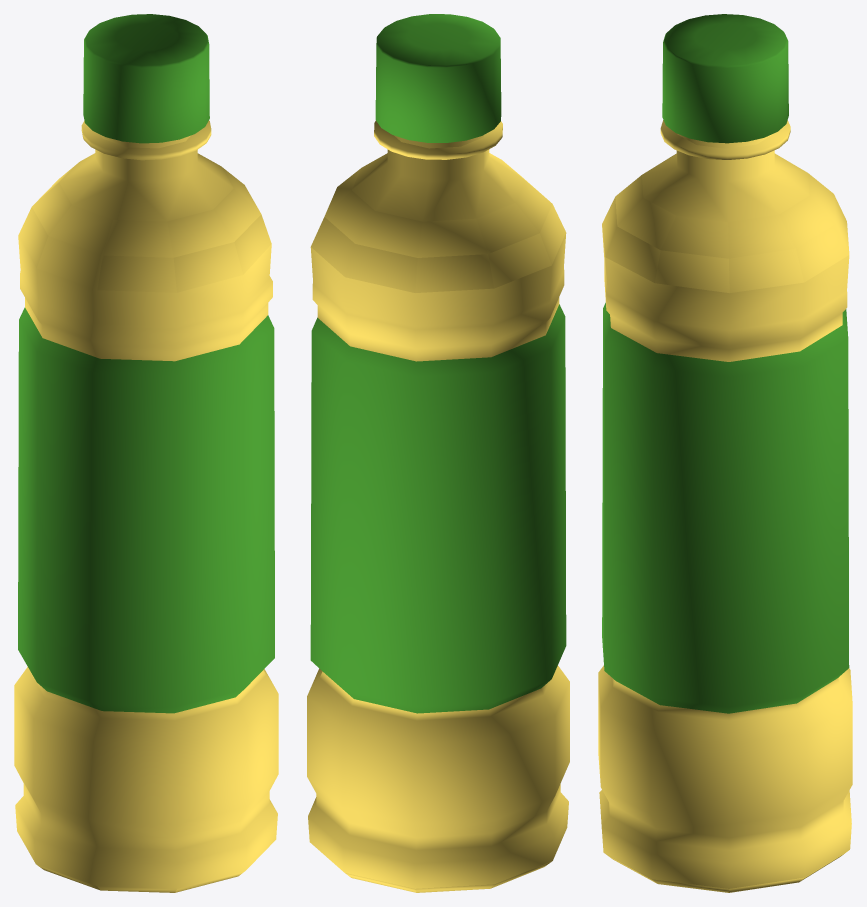
File: Green Tea.fbx
3 views of the same model, side by side, from view 1: azimuth 30°, elevation 25°; view 2: azimuth 150°, elevation 25°; view 3: azimuth 270°, elevation 25° (orthographic).
Parts seen in each view (by area): view 1: Node 0; view 2: Node 0; view 3: Node 0.
Boxes of the visible parts, <box> form: Node 0: <box>14,14,278,892</box>; Node 0: <box>307,14,569,892</box>; Node 0: <box>598,14,852,892</box>.
Bounding box in the file's own units: 0.0597 × 0.2084 × 0.0621.
